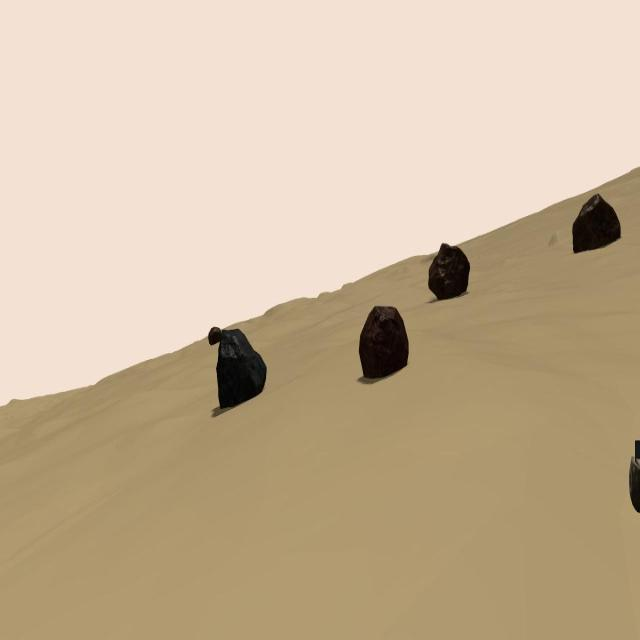rock: (217, 328, 267, 410), (359, 305, 409, 381), (572, 194, 620, 254), (428, 242, 470, 300), (209, 326, 221, 345)
